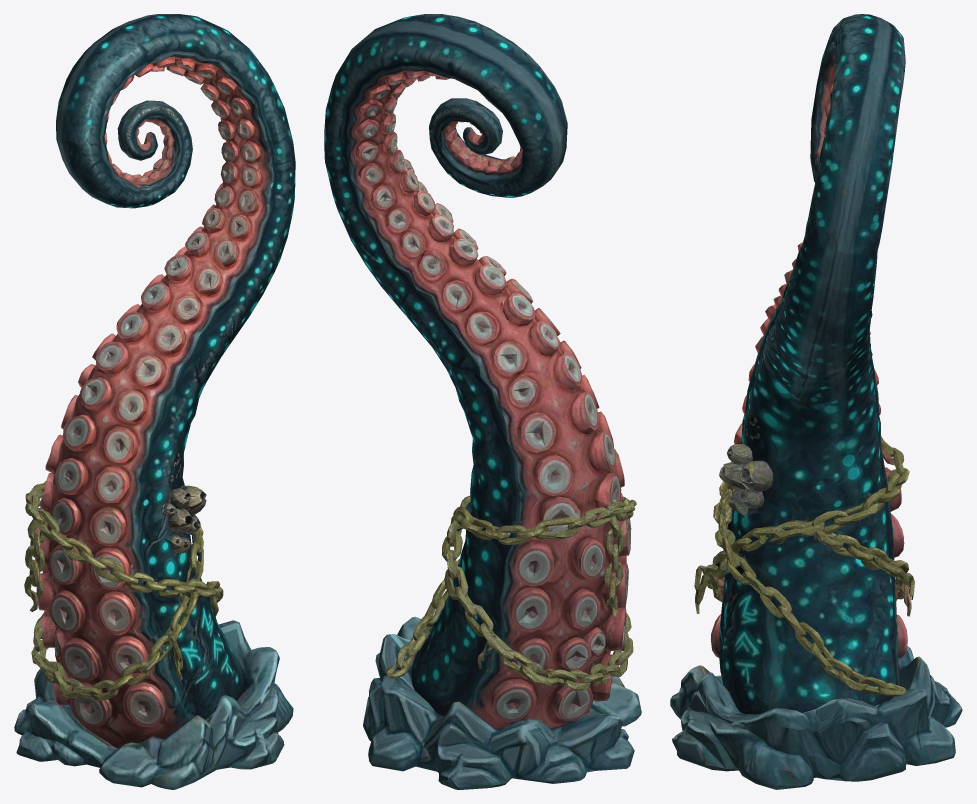
The model's file is model.opt.c.glb.
3 views of the same model, side by side, from view 1: azimuth 30°, elevation 25°; view 2: azimuth 150°, elevation 25°; view 3: azimuth 270°, elevation 25° (orthographic). The views are drawn at different scales.
Visible parts, largest first — view 1: Mesh_0; view 2: Mesh_0; view 3: Mesh_0.
Part boxes in pixels (bbox=[...]): Mesh_0: bbox=[14, 14, 295, 789]; Mesh_0: bbox=[324, 14, 641, 789]; Mesh_0: bbox=[670, 14, 962, 789].
Size of the model in its own units: 0.808 by 1.9 by 0.7026.
1 material, 1 textured.
